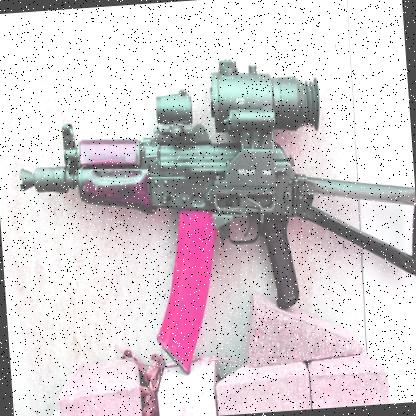rifle: (11, 30, 416, 374)
